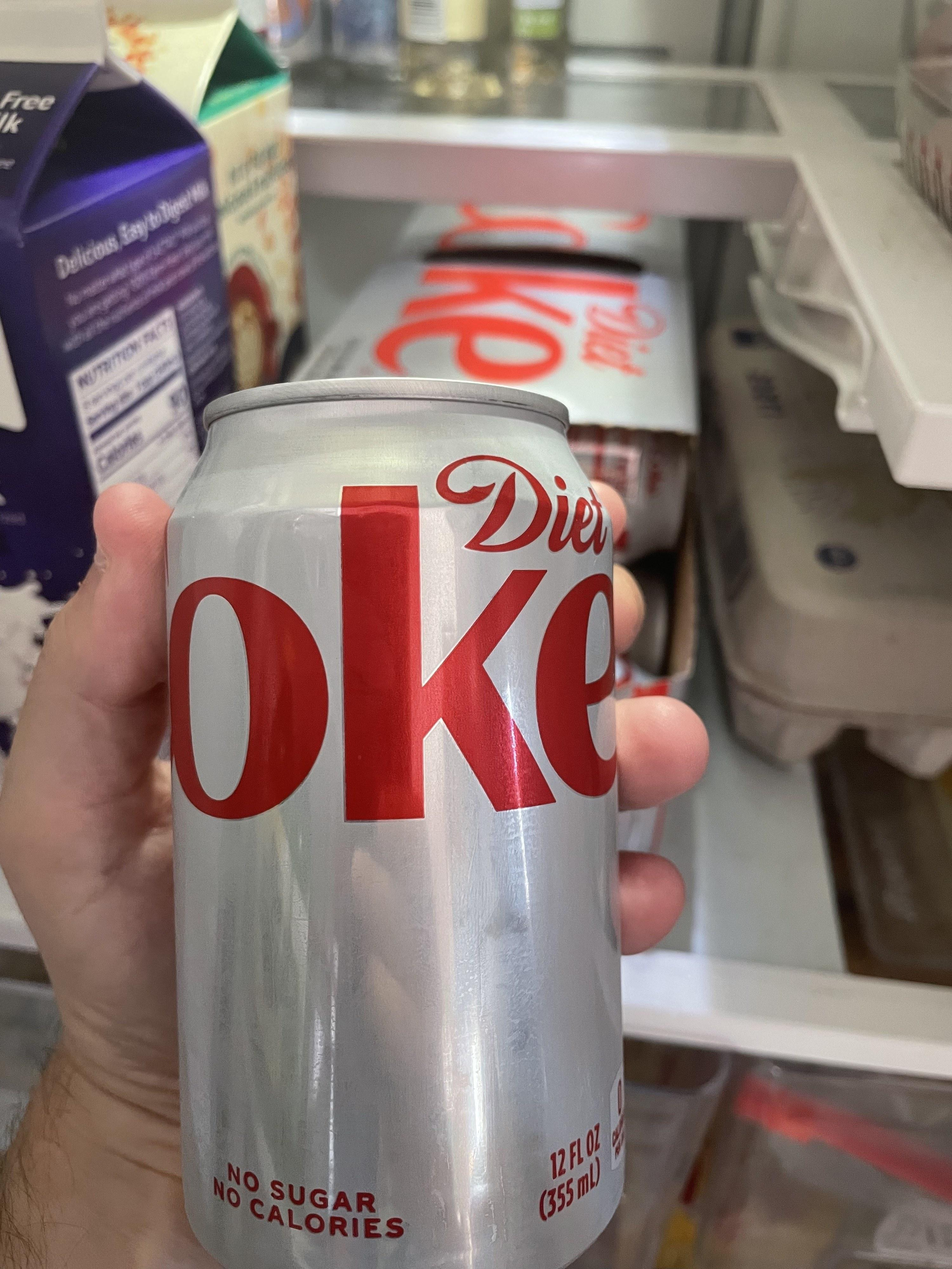tin can: (151, 365, 627, 1269)
